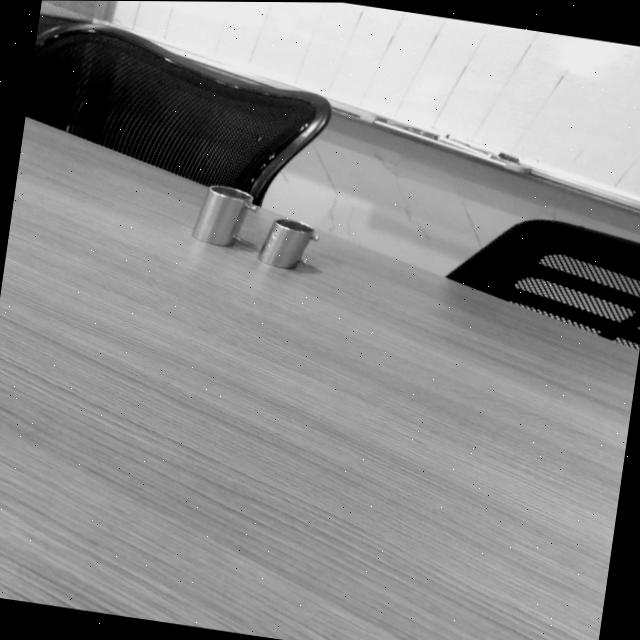Co_Lon: (189, 179, 258, 255)
Co_Nho: (254, 211, 319, 279)
